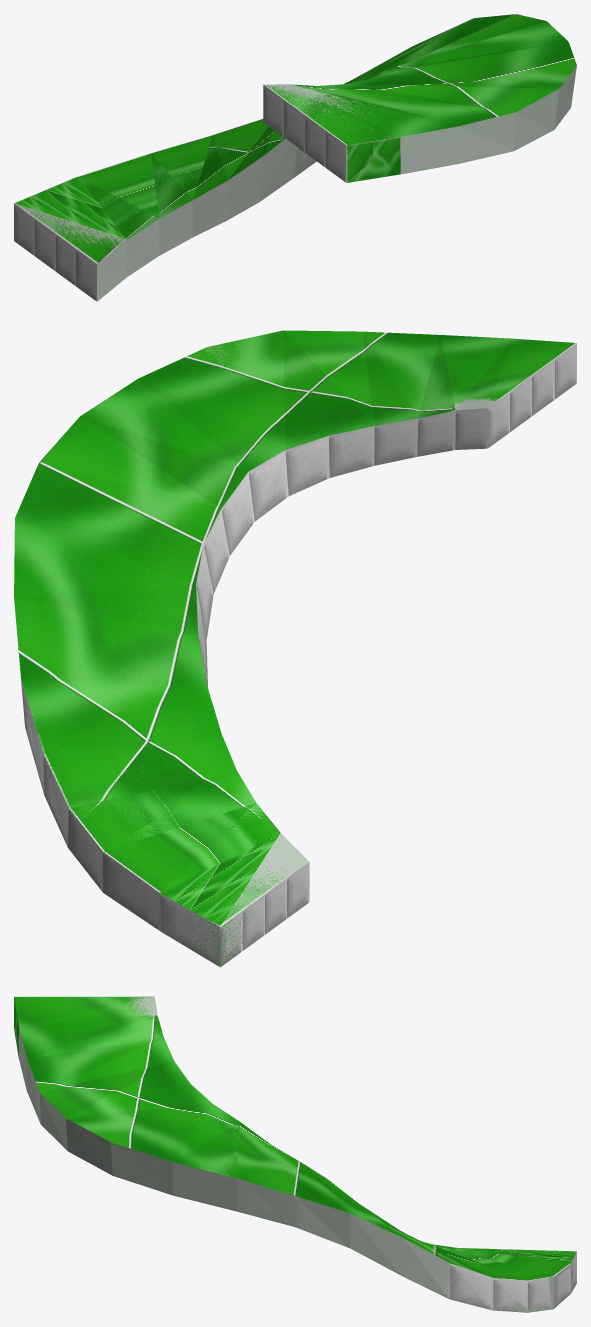
Rendered from CurvedPlatform_2Radius_2Height_180.fbx.
The picture shows the model from 3 angles, top to bottom: view 1: azimuth 30°, elevation 25°; view 2: azimuth 150°, elevation 25°; view 3: azimuth 270°, elevation 25°; orthographic projection. The views are drawn at different scales.
Parts seen in each view (by area): view 1: Cylinder, ColMesh01; view 2: Cylinder, ColMesh01; view 3: Cylinder, ColMesh01.
Part boxes in pixels (x1,y1,x2,y2): Cylinder: [14, 14, 576, 301]; ColMesh01: [14, 66, 576, 301]; Cylinder: [14, 330, 576, 967]; ColMesh01: [15, 344, 498, 965]; Cylinder: [14, 996, 576, 1311]; ColMesh01: [14, 996, 576, 1312].
Bounding box in the file's own units: 4.66 × 4.5 × 8.
Materials: 3 (3 with a texture image).
